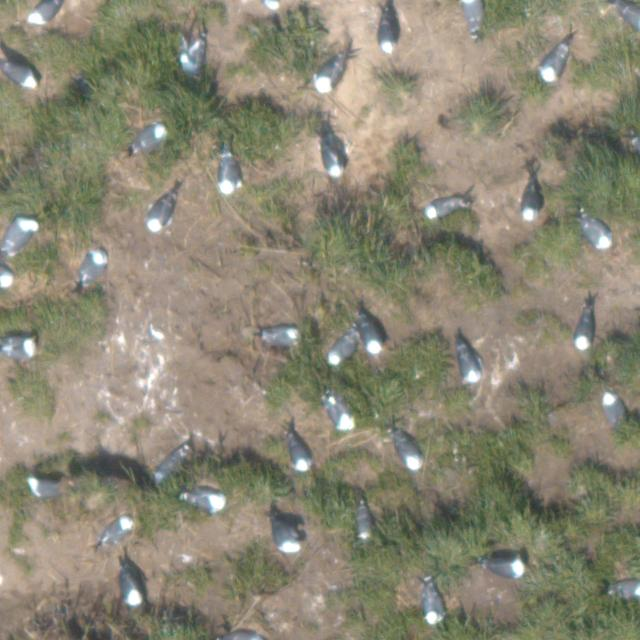umineko: (270, 507, 306, 555), (152, 444, 192, 483), (324, 330, 359, 368), (120, 562, 146, 609), (359, 314, 383, 356), (4, 217, 34, 250), (316, 57, 345, 89), (540, 46, 566, 80), (132, 123, 164, 150), (80, 251, 106, 284), (148, 196, 174, 229), (582, 219, 610, 248), (4, 62, 37, 86), (221, 155, 241, 191), (424, 587, 444, 622), (103, 516, 132, 540), (460, 350, 481, 383), (488, 558, 524, 577), (399, 438, 421, 469), (30, 2, 62, 23), (290, 438, 311, 469), (2, 338, 34, 358), (188, 493, 223, 511), (427, 198, 459, 217), (186, 38, 205, 70), (329, 400, 350, 428), (603, 394, 623, 423), (264, 327, 296, 345), (576, 316, 594, 348), (521, 187, 539, 219), (379, 19, 396, 51), (31, 478, 60, 496), (464, 1, 482, 30), (325, 148, 343, 176), (613, 581, 640, 598), (622, 8, 640, 32), (357, 507, 371, 537), (0, 261, 10, 287), (630, 135, 640, 155), (260, 0, 278, 10)
